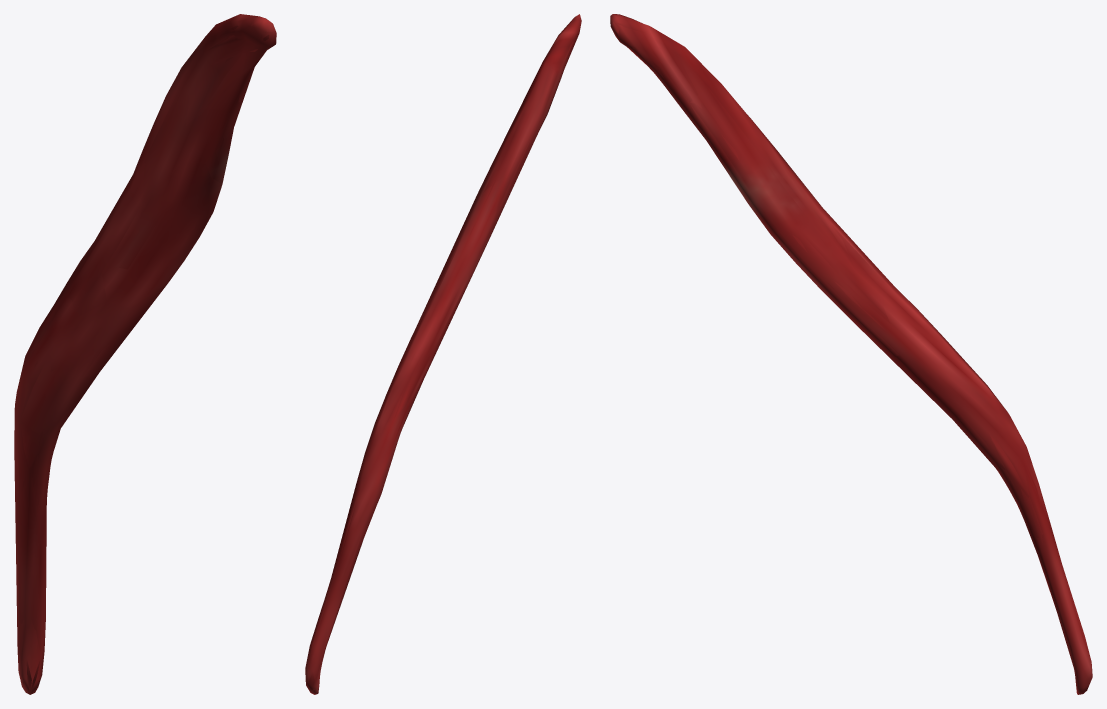
The model's file is L Triceps brachii caput accessorium.fbx.
3 renders of one model, left to right at view 1: azimuth 30°, elevation 25°; view 2: azimuth 150°, elevation 25°; view 3: azimuth 270°, elevation 25°, orthographic. The views are drawn at different scales.
Parts seen in each view (by area): view 1: L Triceps brachii caput accessorium low, L Triceps brachii caput accessorium, L Triceps brachii caput accessorium high; view 2: L Triceps brachii caput accessorium, L Triceps brachii caput accessorium low; view 3: L Triceps brachii caput accessorium, L Triceps brachii caput accessorium low, L Triceps brachii caput accessorium high.
Boxes of the visible parts, <box> form: L Triceps brachii caput accessorium low: <box>14,14,276,694</box>; L Triceps brachii caput accessorium: <box>14,14,276,694</box>; L Triceps brachii caput accessorium high: <box>18,17,269,683</box>; L Triceps brachii caput accessorium: <box>305,14,581,694</box>; L Triceps brachii caput accessorium low: <box>306,19,578,694</box>; L Triceps brachii caput accessorium: <box>610,14,1092,694</box>; L Triceps brachii caput accessorium low: <box>610,17,1091,694</box>; L Triceps brachii caput accessorium high: <box>618,16,1086,677</box>.
Size of the model in its own units: 0.91 by 6.04 by 4.11.
